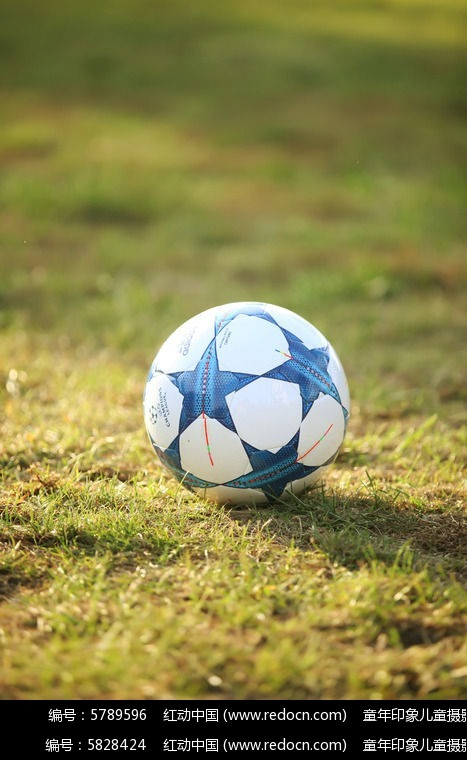ball: (143, 301, 351, 509)
